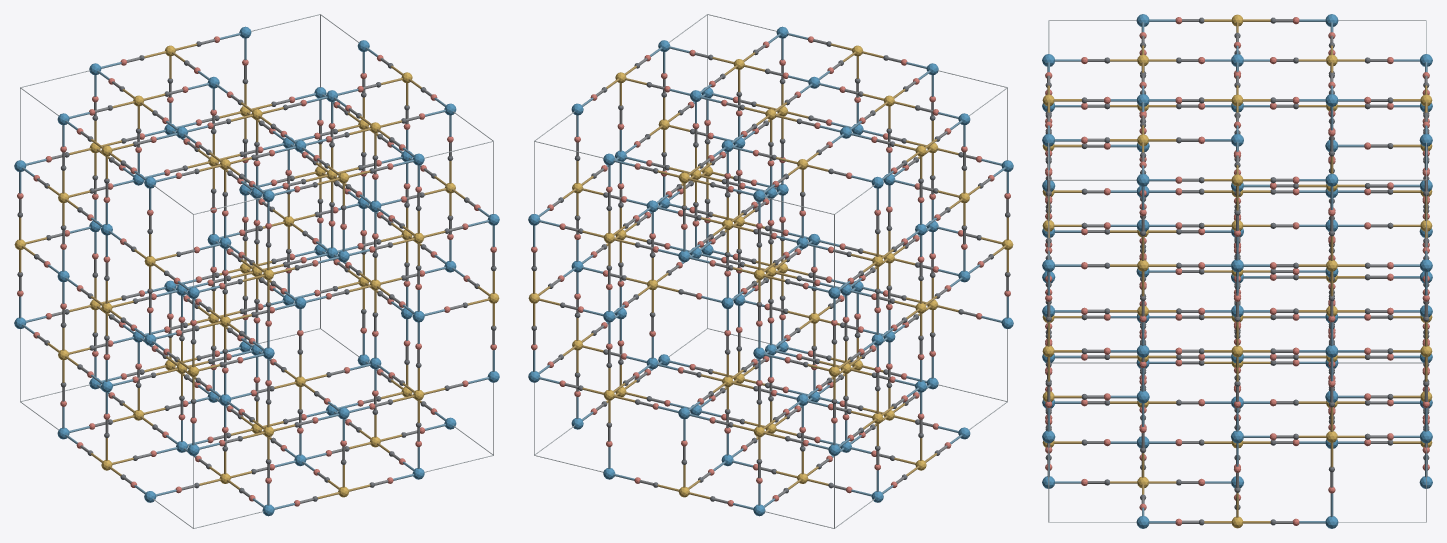
File: Prussian_Blue_2x2x2_ordered_vacancy.glb
The picture shows the model from 3 angles, left to right: view 1: azimuth 30°, elevation 25°; view 2: azimuth 150°, elevation 25°; view 3: azimuth 270°, elevation 25°; orthographic projection. The views are drawn at different scales.
Parts seen in each view (by area): view 1: world; view 2: world; view 3: world.
Part boxes in pixels (x1,y1,x2,y2): world: [14, 14, 499, 528]; world: [528, 14, 1013, 528]; world: [1042, 14, 1432, 528].
Bounding box in the file's own units: 21.06 × 21.06 × 21.06.
